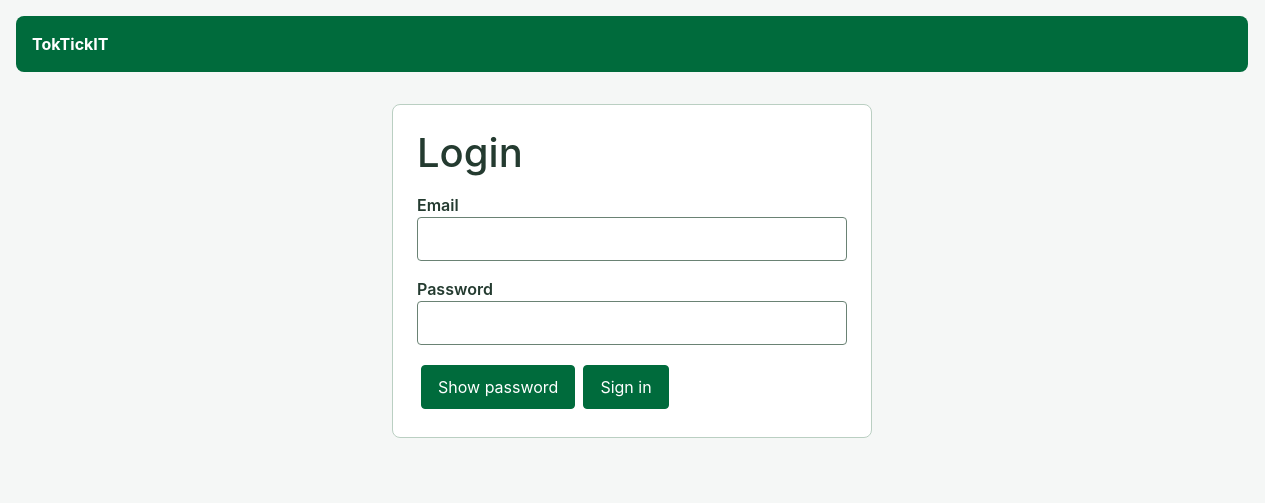
Test case: UI-01 keeps email and shows safe retry feedback on network failure
Expected: the button "Sign in" is shown, [583,365,669,409]
Type "a@example.test" into the field labelled "Email". click: (632, 239)
box: [417,217,847,261]
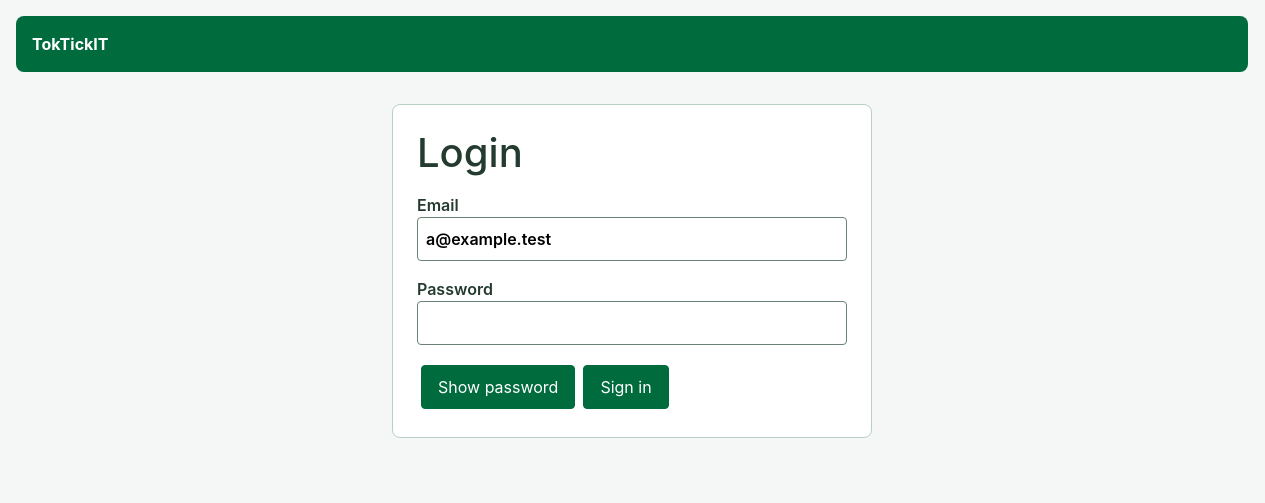
Type "test password" into the password field labelled "Password". click: (632, 323)
box: [417,301,847,345]
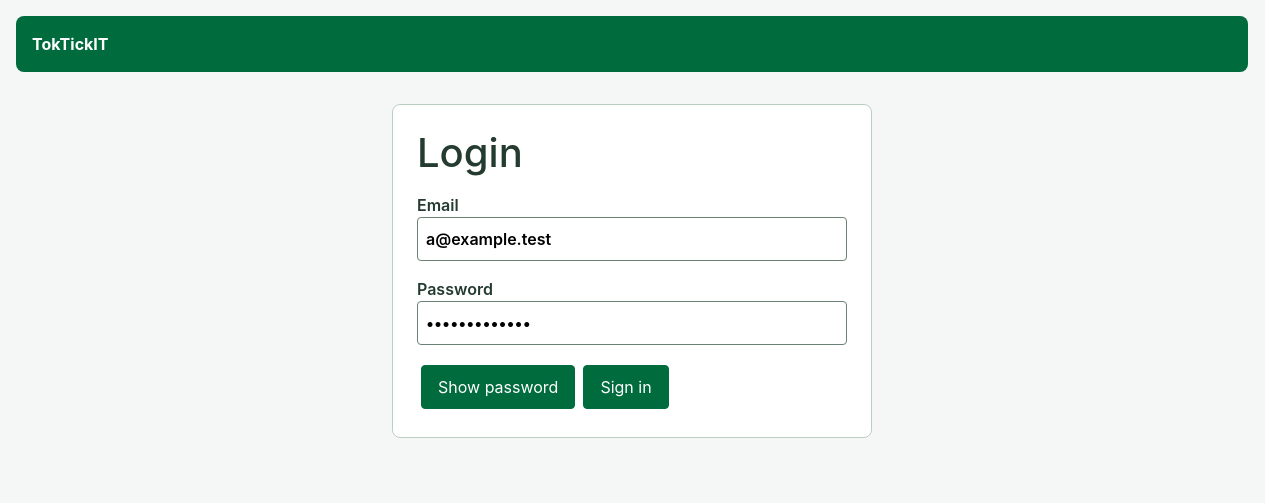
Click the button "Sign in". click: (626, 387)
box: [583,365,669,409]
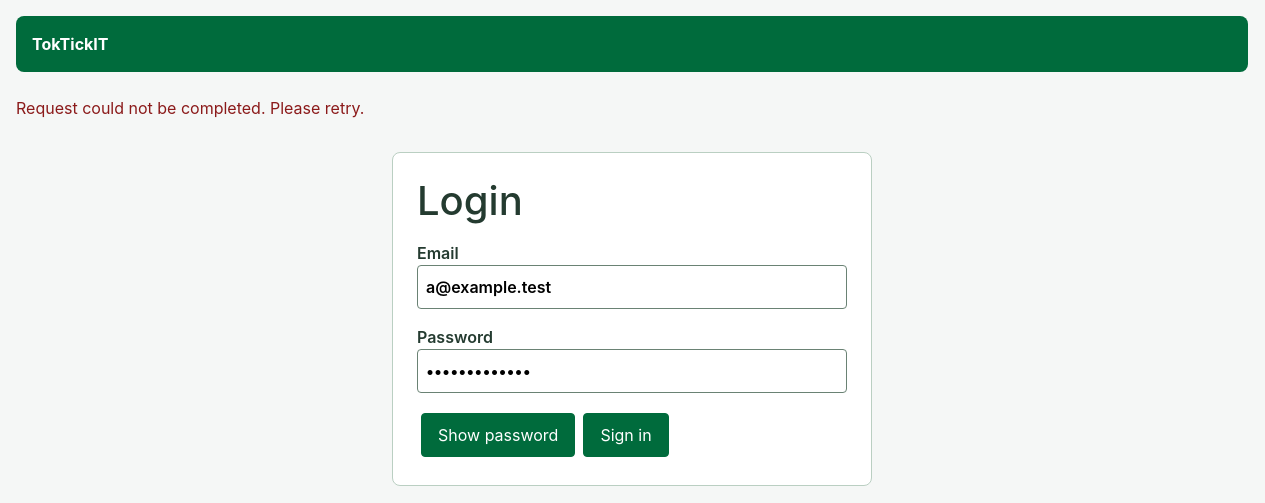
Result: the text "Request could not be completed. Please retry." is shown at [16,98,364,118]
